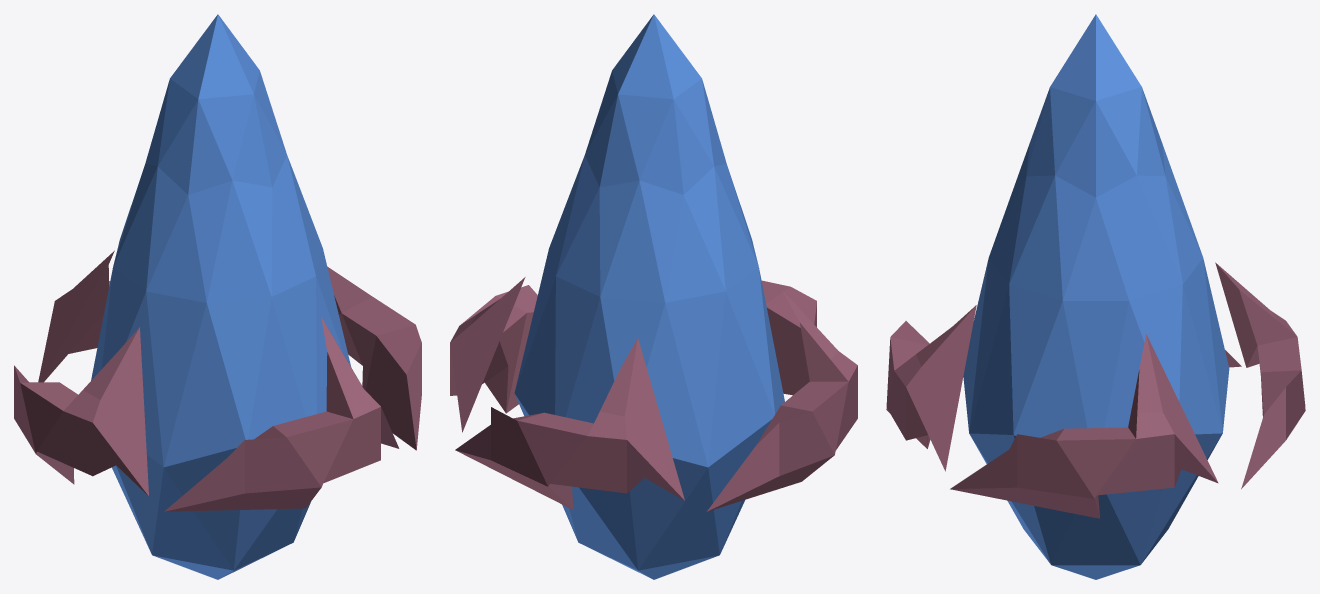
The model's file is crystal.fbx.
3 views of the same model, side by side, from view 1: azimuth 30°, elevation 25°; view 2: azimuth 150°, elevation 25°; view 3: azimuth 270°, elevation 25° (orthographic).
Visible parts, largest first — view 1: Icosphere, Circle.000, Circle.003, Circle.001, Circle.002; view 2: Icosphere, Circle.002, Circle.003, Circle.001, Circle.000; view 3: Icosphere, Circle.001, Circle.000, Circle.002.
Boxes of the visible parts, x1=… form: Icosphere: x1=91, y1=14, x2=350, y2=579; Circle.000: x1=164, y1=317, x2=399, y2=511; Circle.003: x1=14, y1=327, x2=148, y2=496; Circle.001: x1=327, y1=266, x2=421, y2=450; Circle.002: x1=38, y1=250, x2=114, y2=382; Icosphere: x1=514, y1=14, x2=784, y2=579; Circle.002: x1=455, y1=338, x2=684, y2=509; Circle.003: x1=707, y1=291, x2=857, y2=511; Circle.001: x1=450, y1=277, x2=537, y2=432; Circle.000: x1=761, y1=280, x2=816, y2=395; Icosphere: x1=963, y1=14, x2=1229, y2=579; Circle.001: x1=950, y1=334, x2=1218, y2=518; Circle.000: x1=886, y1=305, x2=976, y2=471; Circle.002: x1=1215, y1=262, x2=1305, y2=489.
Bounding box in the file's own units: 348 × 518 × 348.
